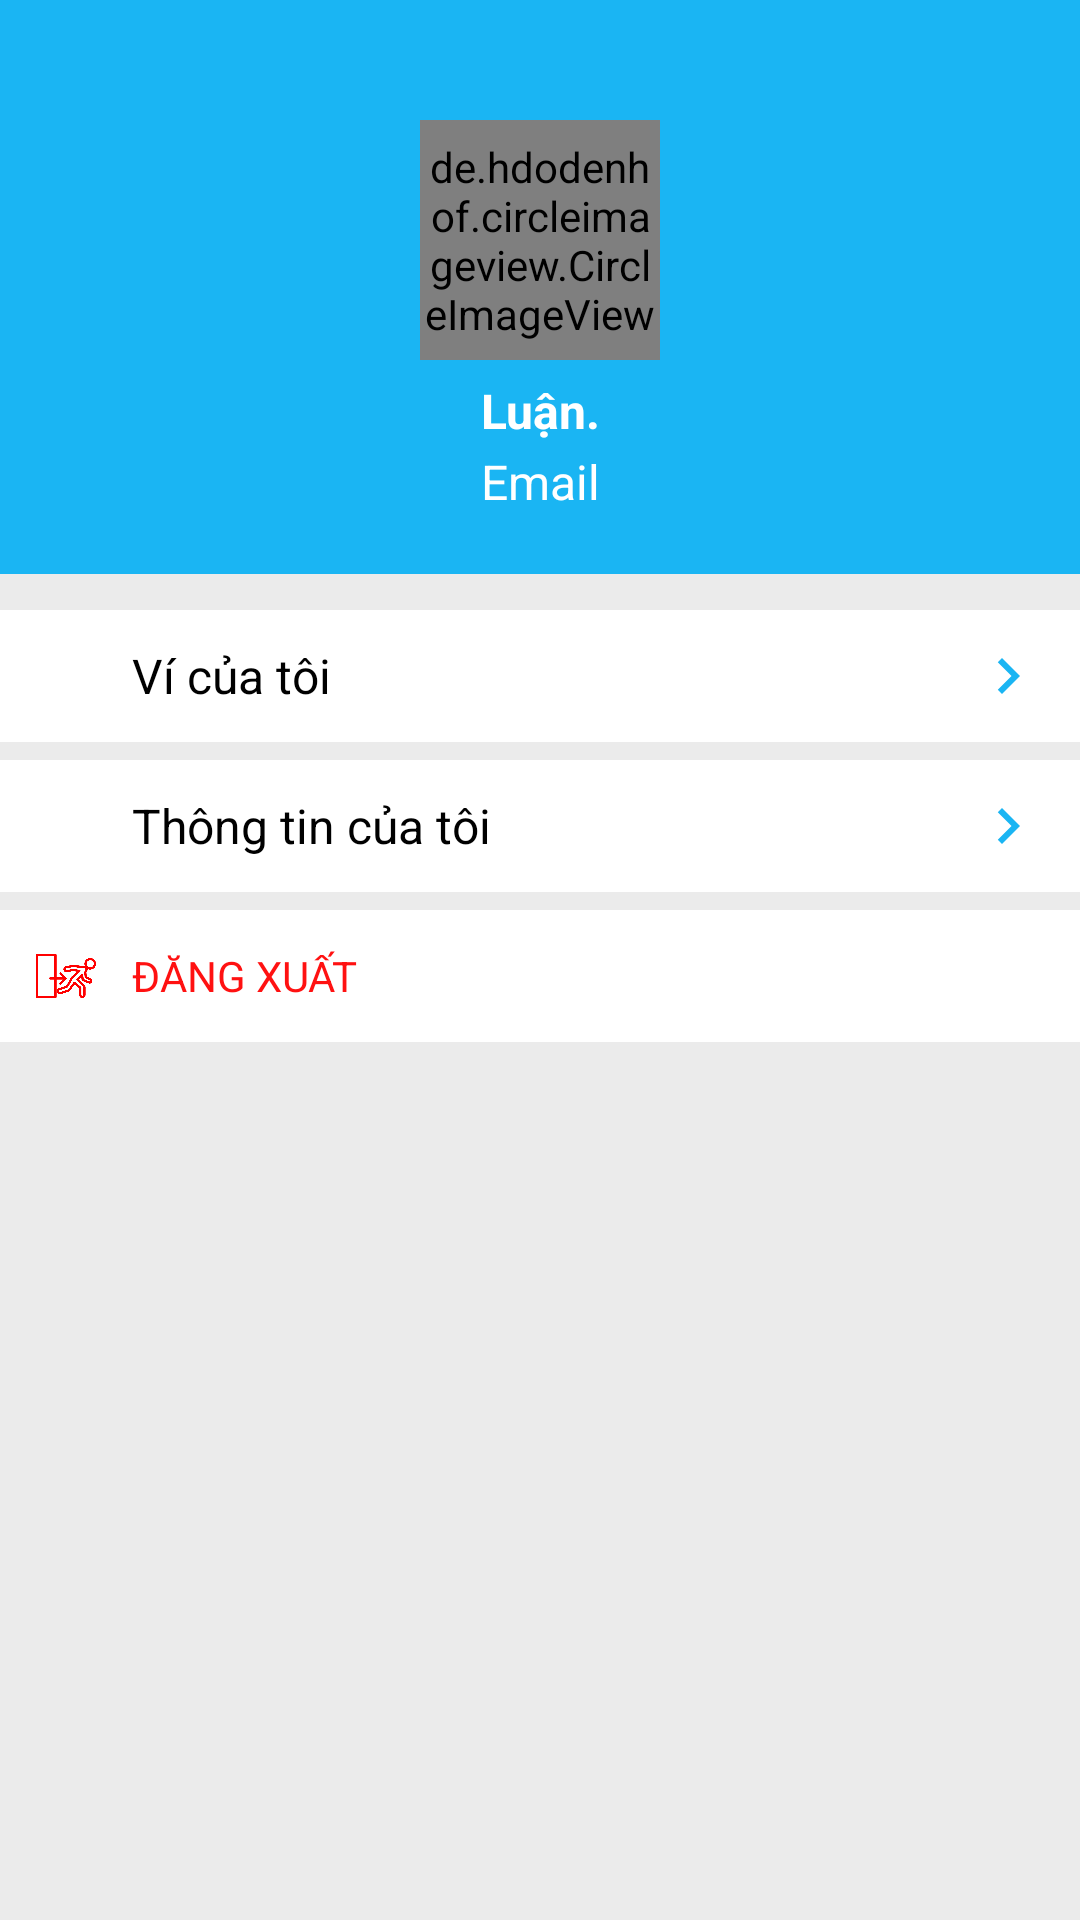

Icons on this 1080px×1920px Android screen, each with its box as bbox(x1, y1, x2, y2):
chevron right: bbox(998, 658, 1020, 694), bbox(998, 808, 1020, 844)
exit door sign: bbox(36, 954, 96, 998)
